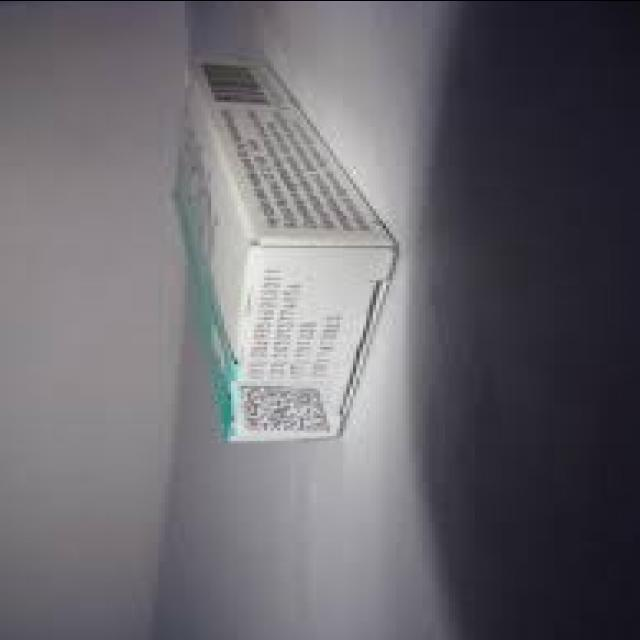Data-Matrix: (231, 380, 333, 435)
